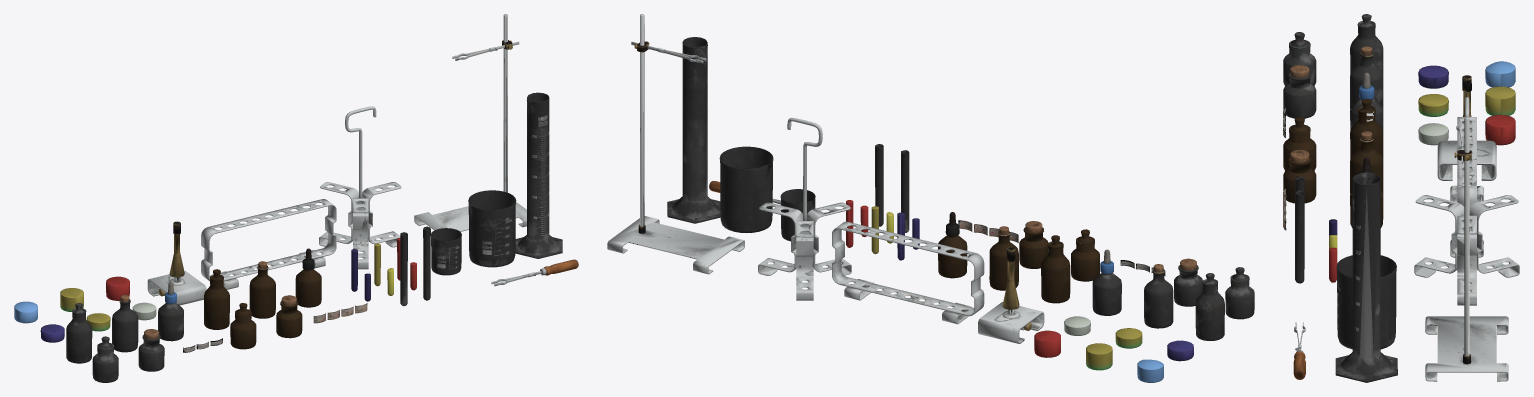
Rendered from chemistry-set.glb.
3 views of the same model, side by side, from view 1: azimuth 30°, elevation 25°; view 2: azimuth 150°, elevation 25°; view 3: azimuth 270°, elevation 25° (orthographic). The views are drawn at different scales.
Parts seen in each view (by area): view 1: chemistry_set; view 2: chemistry_set; view 3: chemistry_set.
Part boxes in pixels (<box>): chemistry_set: <box>14,14,578,382</box>; chemistry_set: <box>607,14,1254,382</box>; chemistry_set: <box>1283,14,1519,382</box>.
Bounding box in the file's own units: 1.08 × 0.429 × 0.3539.
Materials: 2 (2 with a texture image).
